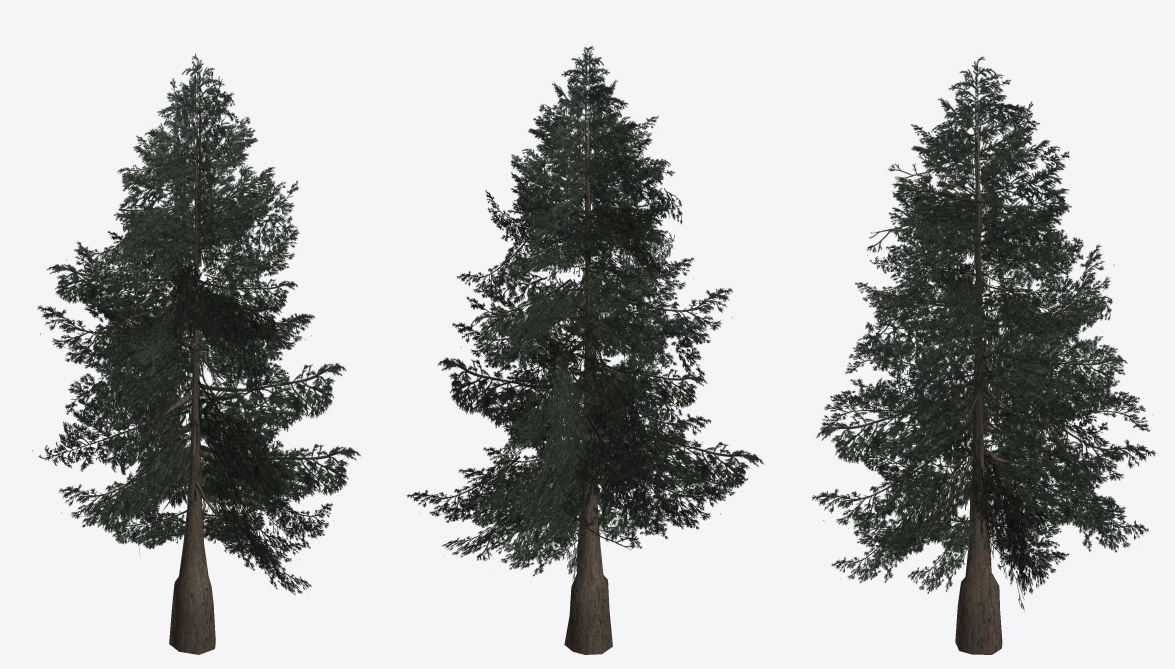
File: tree_02.glb
3 views of the same model, side by side, from view 1: azimuth 30°, elevation 25°; view 2: azimuth 150°, elevation 25°; view 3: azimuth 270°, elevation 25° (orthographic).
Visible parts, largest first — view 1: Tree_Branches_01.002_Tree_Branches_01_0.001, Tree_Trunk_01.002_Tree_Trunk_01_0.001; view 2: Tree_Branches_01.002_Tree_Branches_01_0.001, Tree_Trunk_01.002_Tree_Trunk_01_0.001; view 3: Tree_Branches_01.002_Tree_Branches_01_0.001, Tree_Trunk_01.002_Tree_Trunk_01_0.001.
Boxes of the visible parts, box(x1,y1,x2,y2) form: Tree_Branches_01.002_Tree_Branches_01_0.001: box(32, 53, 360, 595); Tree_Trunk_01.002_Tree_Trunk_01_0.001: box(147, 114, 231, 654); Tree_Branches_01.002_Tree_Branches_01_0.001: box(407, 46, 763, 581); Tree_Trunk_01.002_Tree_Trunk_01_0.001: box(554, 104, 628, 654); Tree_Branches_01.002_Tree_Branches_01_0.001: box(812, 57, 1155, 610); Tree_Trunk_01.002_Tree_Trunk_01_0.001: box(937, 109, 1021, 654).
Size of the model in its own units: 10.06 by 18.46 by 10.07.
Materials: 2 (2 with a texture image).
